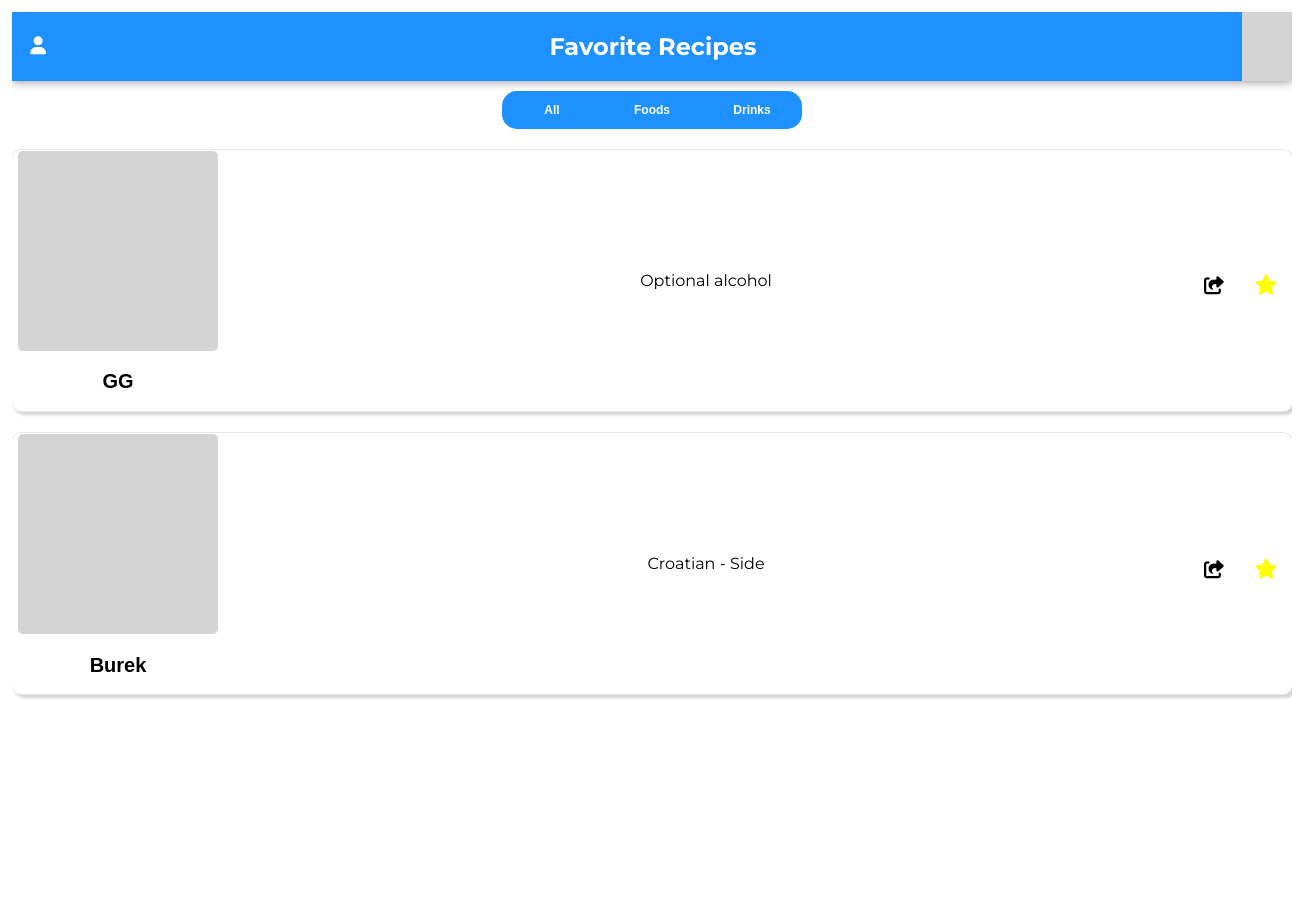
Scenario: Teste da página Favorite Recipes › Card é removido da tela ao desfavoritar
The image size is (1304, 912).
Check: the heading "GG" is shown, box top-left (102, 370), bottom-right (134, 392)
Click the button with test id "0-horizontal-favorite-btn" at (1266, 280), box top-left (1240, 264), bottom-right (1292, 296)
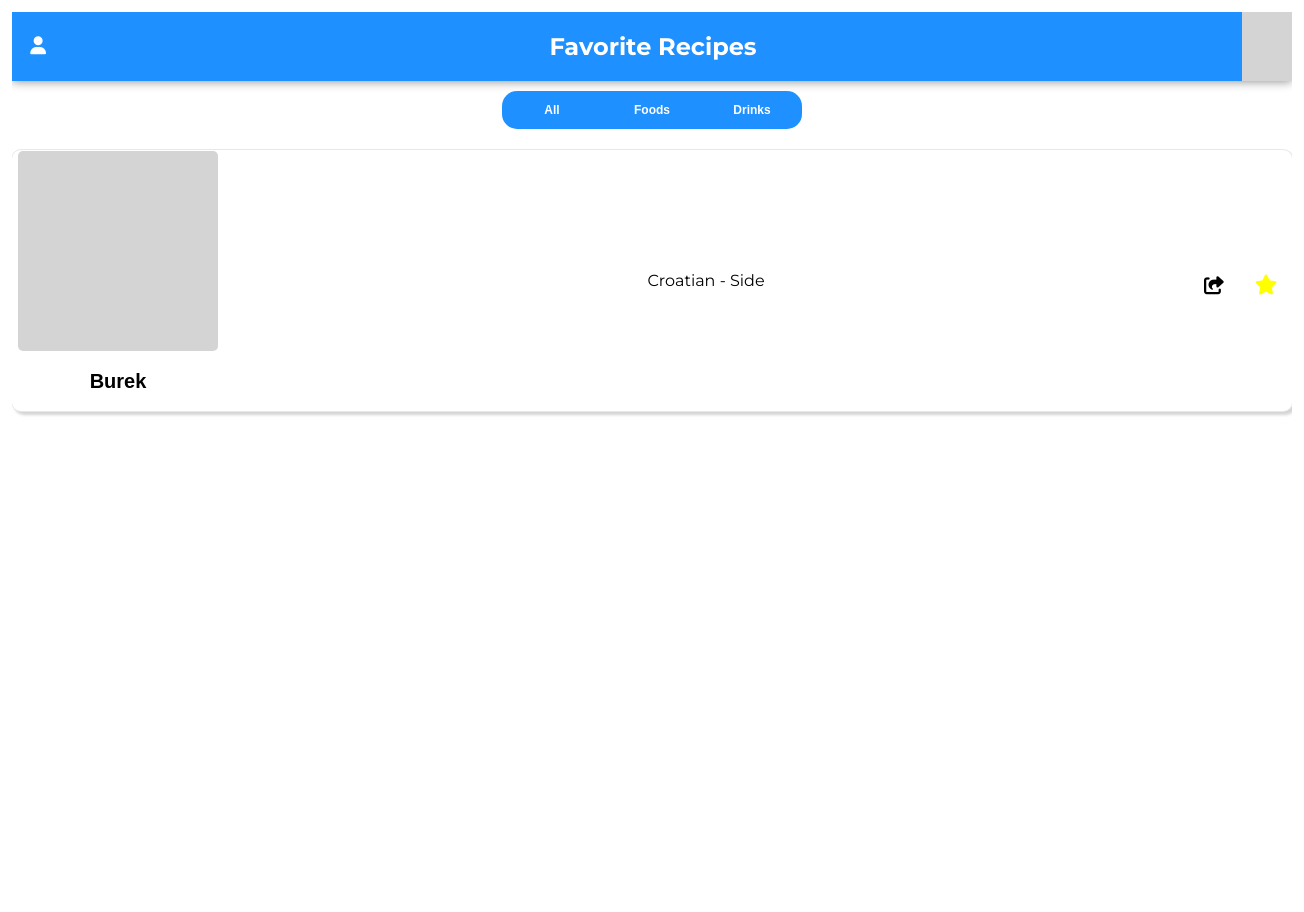
Check: the button "GG" is gone
